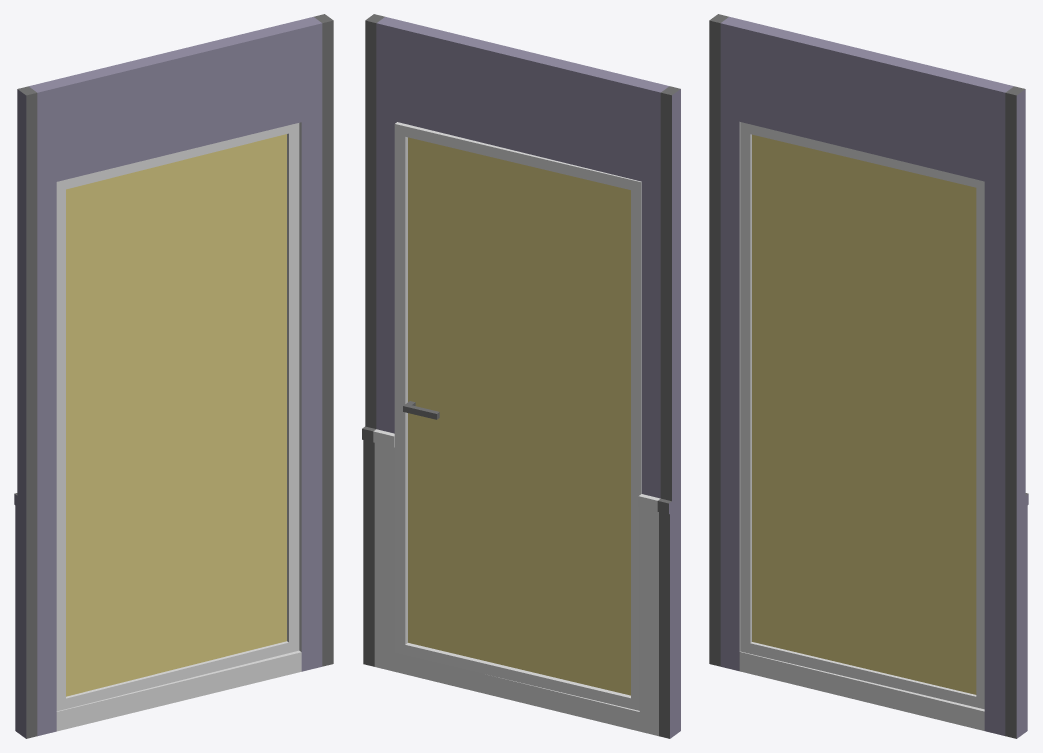
Rendered from Level-Door.fbx.
The picture shows the model from 3 angles, left to right: view 1: azimuth 30°, elevation 25°; view 2: azimuth 150°, elevation 25°; view 3: azimuth 330°, elevation 25°; orthographic projection.
Visible parts, largest first — view 1: Door, Wall 02.001; view 2: Door, Wall 02.001; view 3: Door, Wall 02.001.
Boxes of the visible parts, box(x1,y1,x2,y2) form: Door: box(56, 123, 299, 711); Wall 02.001: box(14, 14, 333, 738); Door: box(394, 122, 641, 710); Wall 02.001: box(362, 14, 680, 738); Door: box(740, 122, 984, 709); Wall 02.001: box(709, 14, 1028, 738).
Size of the model in its own units: 100 by 200 by 8.78.
